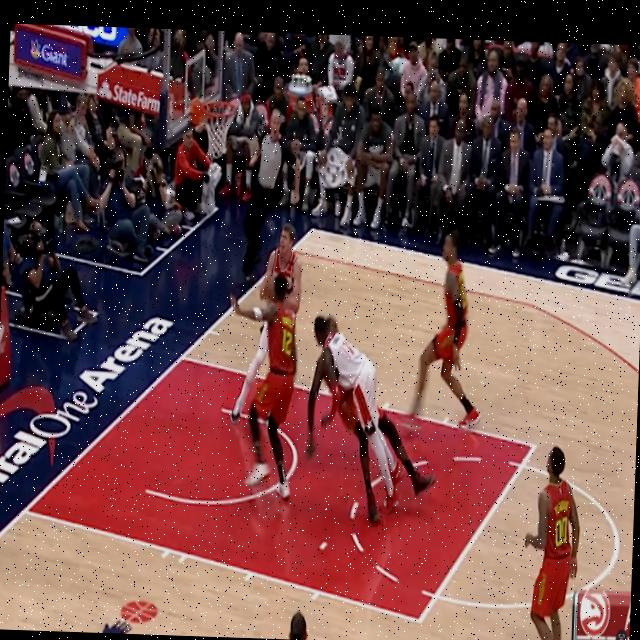foul: (294, 303, 454, 544)
no foul: (237, 205, 300, 502)
